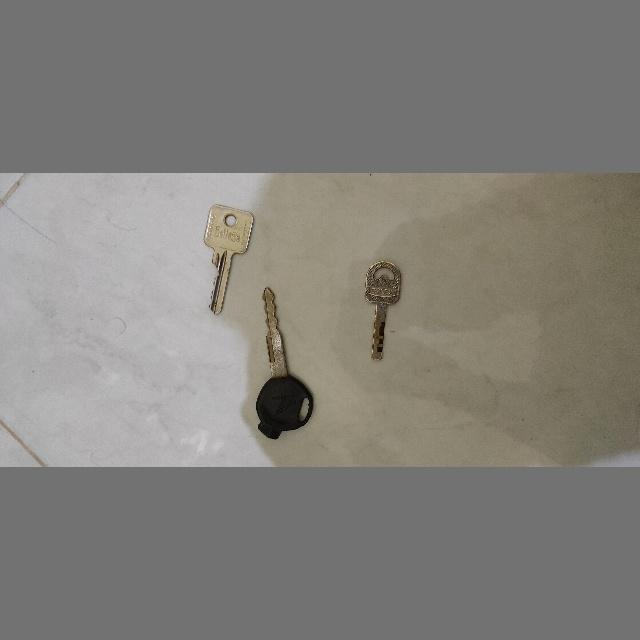Keys: (254, 286, 316, 442), (202, 202, 254, 318), (362, 257, 402, 363)
